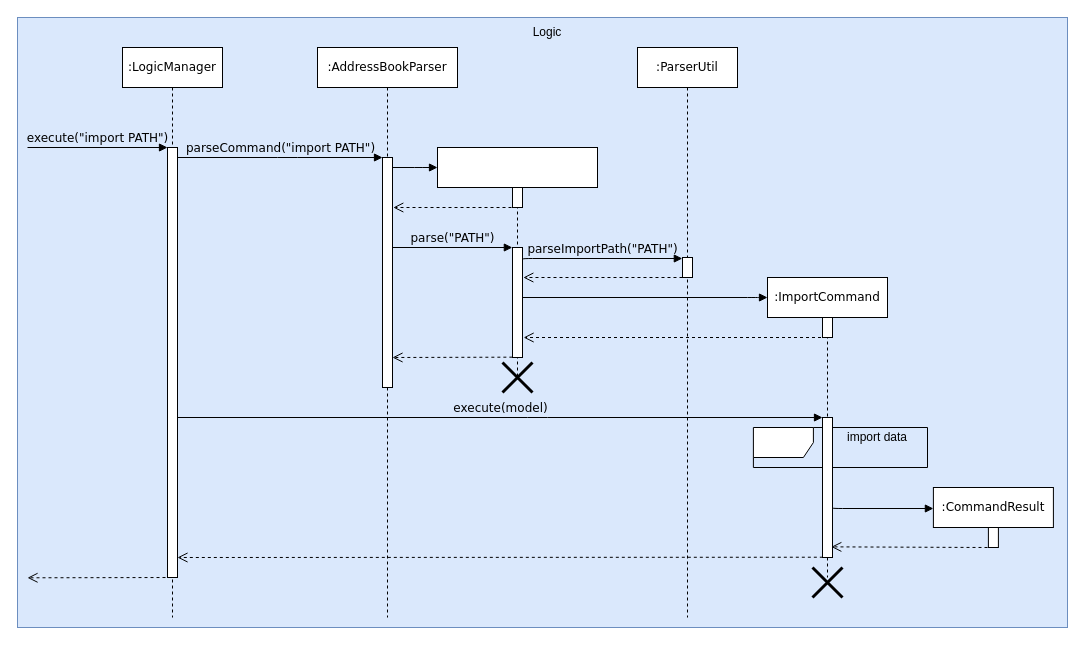
The diagram is 1085 pixels wide and 645 high, and some of its shapes have lost their labels. The box of each missing label's shape, as (x1, y1, x2, y2) in pixels:
:ImportCommandParser: (436, 146, 598, 378)
ref: (752, 426, 928, 468)
